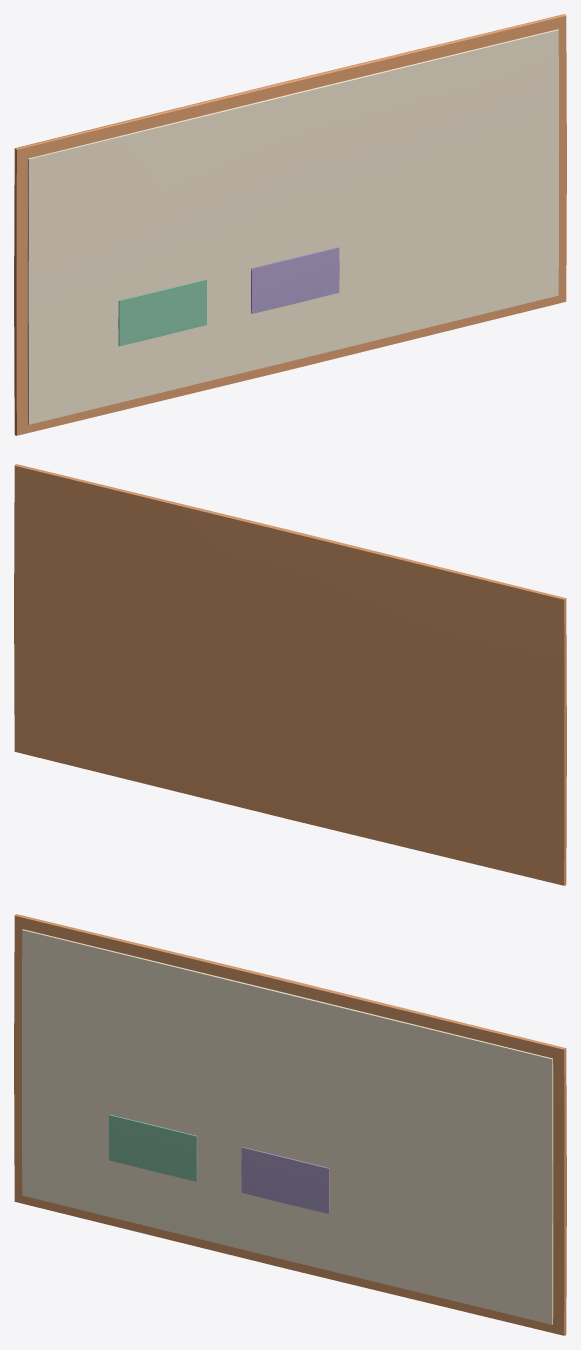
The model's file is wall-whiteboard.glb.
The picture shows the model from 3 angles, top to bottom: view 1: azimuth 30°, elevation 25°; view 2: azimuth 150°, elevation 25°; view 3: azimuth 330°, elevation 25°; orthographic projection.
Parts seen in each view (by area): view 1: part (×4); view 2: part; view 3: part (×4).
Boxes of the visible parts, bbox=[...] form: part (×4): bbox=[14, 14, 566, 435]; part: bbox=[14, 464, 566, 885]; part (×4): bbox=[14, 914, 566, 1335].
Bounding box in the file's own units: 2.1 × 1.05 × 0.048.
Materials: 1 (1 with a texture image).
